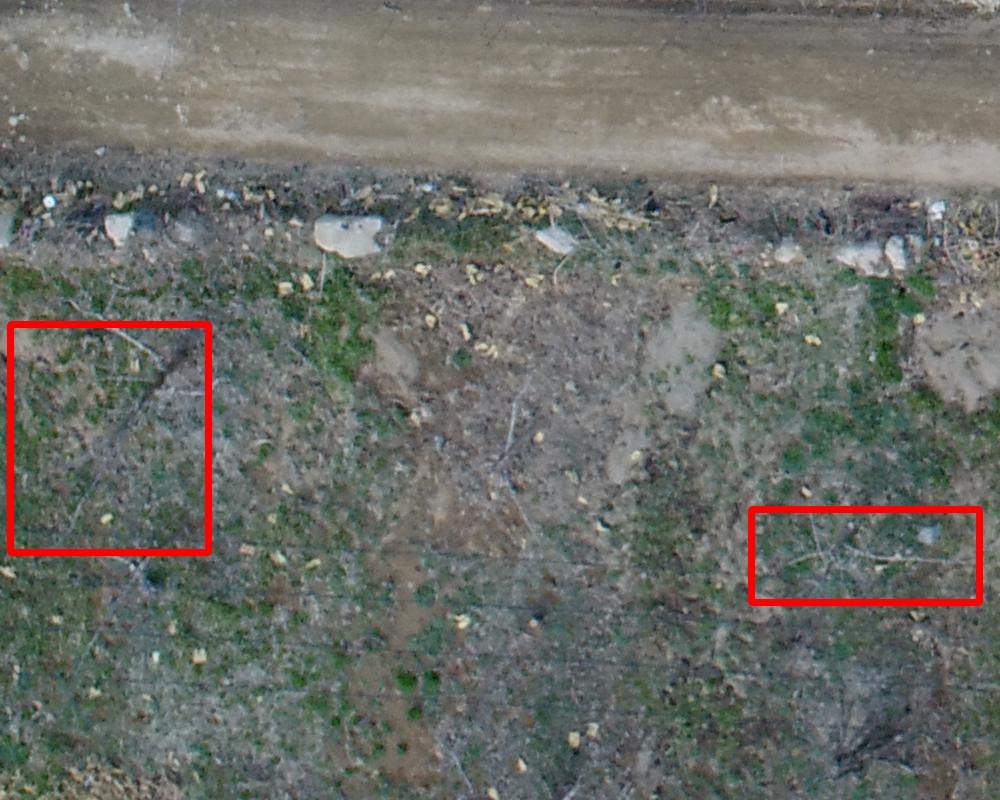apple: (10, 324, 208, 552), (751, 509, 979, 602)
